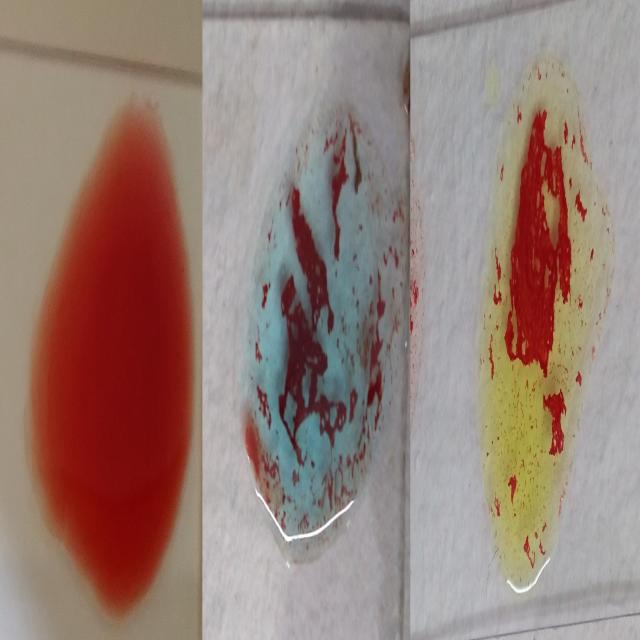A: (241, 85, 397, 560)
B: (477, 55, 608, 604)
